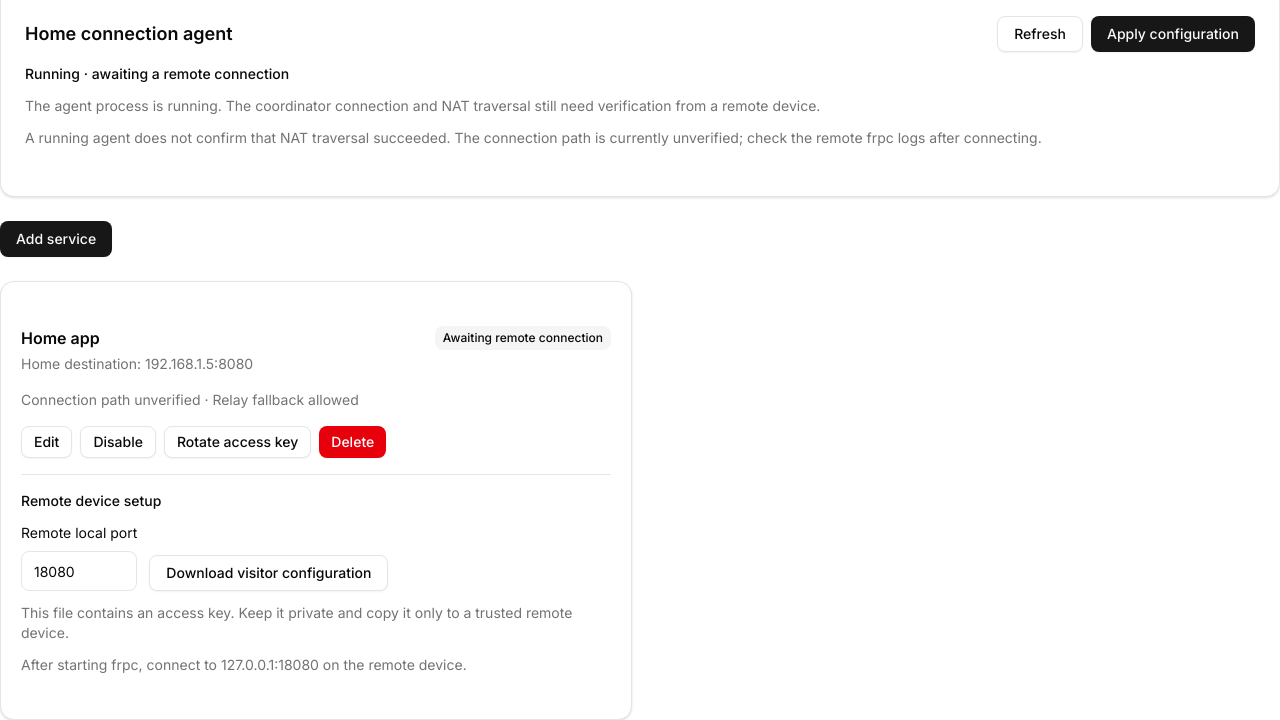
Test: private P2P service management › rejects invalid visitor ports and displays export errors
(page scrolled)
Expected: the heading "Home app" is shown, left=21, top=328, right=100, bottom=348
Replace the text in the number field labelled "Remote local port" with "65536" at (79, 571), box left=21, top=551, right=137, bottom=591
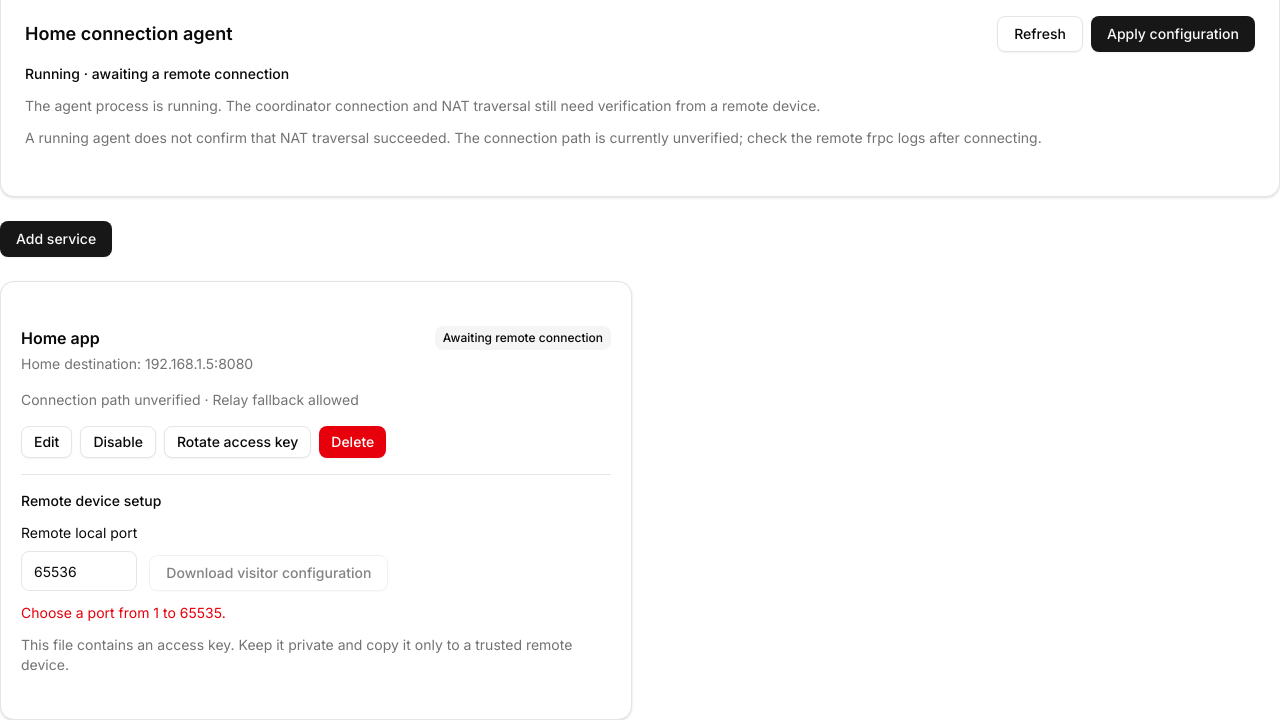
Now the button "Download visitor configuration" is disabled, box left=149, top=555, right=388, bottom=591
Now the message shows "Choose a port from 1 to 65535", box left=21, top=604, right=226, bottom=621
Replace the text in the number field labelled "Remote local port" with "18080" at (79, 571), box left=21, top=551, right=137, bottom=591
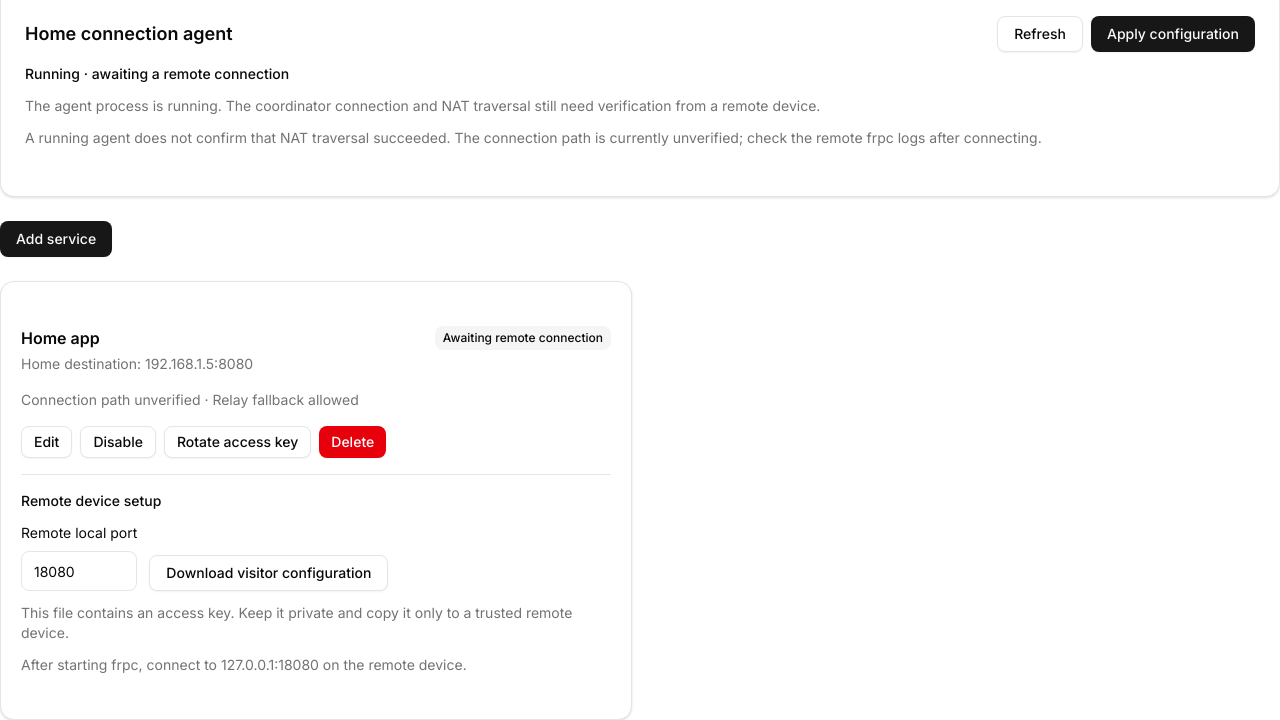
Click the button "Download visitor configuration".
click(269, 573)  # box left=149, top=555, right=388, bottom=591
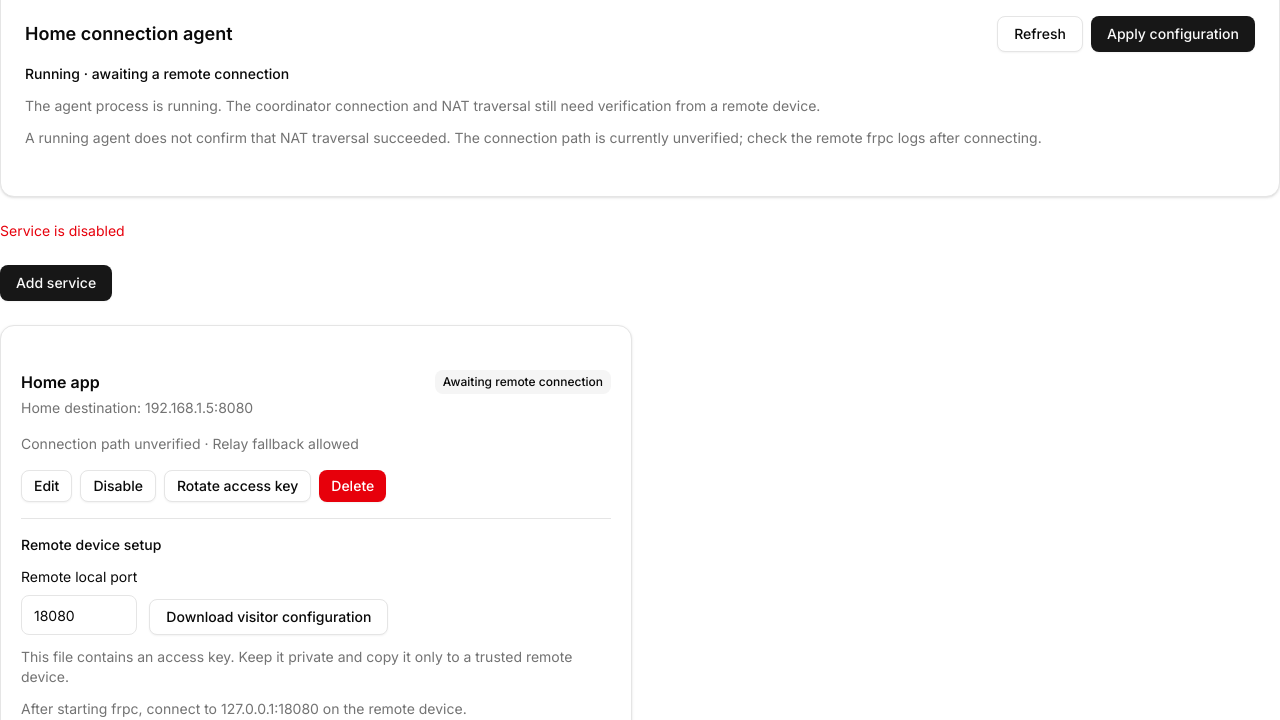
Now the message reads "Service is disabled", box left=0, top=222, right=125, bottom=239
